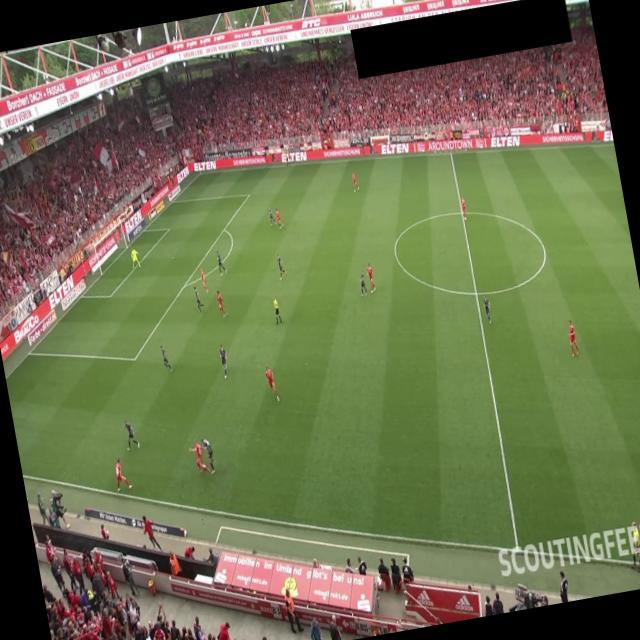goalkeeper: (128, 246, 142, 269)
player: (188, 440, 212, 477), (111, 456, 132, 492), (200, 436, 217, 476), (120, 417, 140, 451), (263, 363, 279, 403), (565, 318, 580, 358), (217, 342, 231, 380), (215, 288, 228, 318), (159, 343, 172, 372), (275, 252, 288, 281), (481, 294, 493, 325), (365, 260, 376, 292), (215, 248, 228, 275), (193, 284, 204, 312), (357, 269, 368, 296), (459, 196, 468, 220), (350, 171, 360, 192), (274, 206, 283, 229), (200, 268, 208, 292), (267, 206, 274, 225)
referee: (623, 520, 640, 571), (270, 294, 282, 324), (283, 146, 291, 167)
